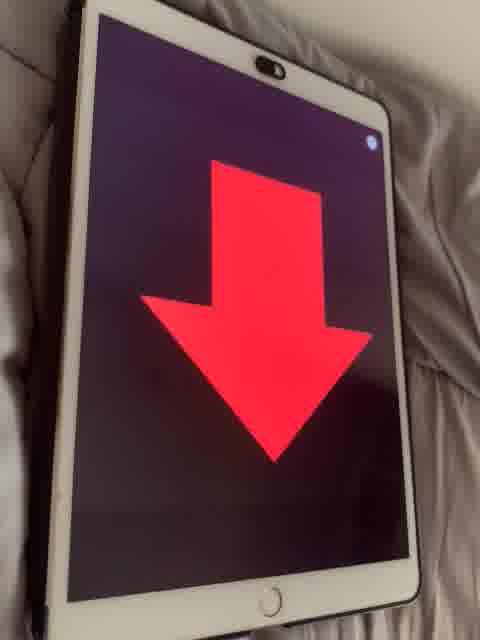down: (136, 148, 377, 466)
